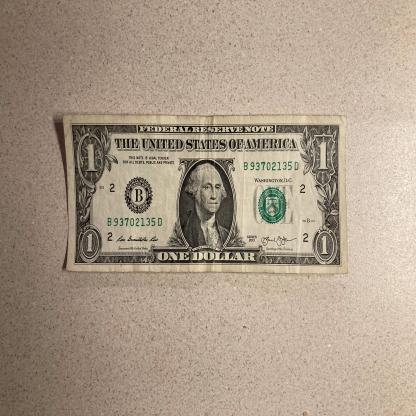one-front: (62, 114, 349, 275)
